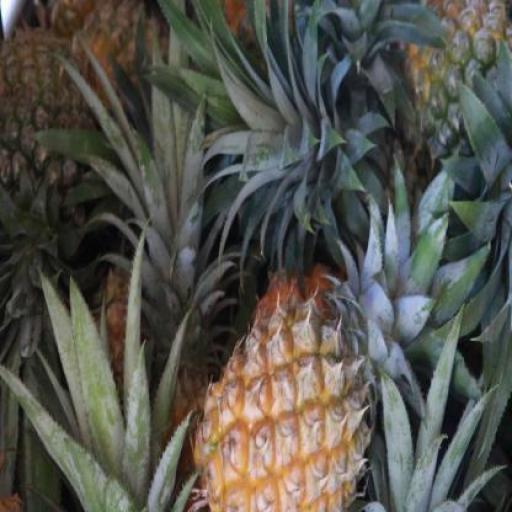Pineapple - v8 v1: (195, 275, 376, 511)
